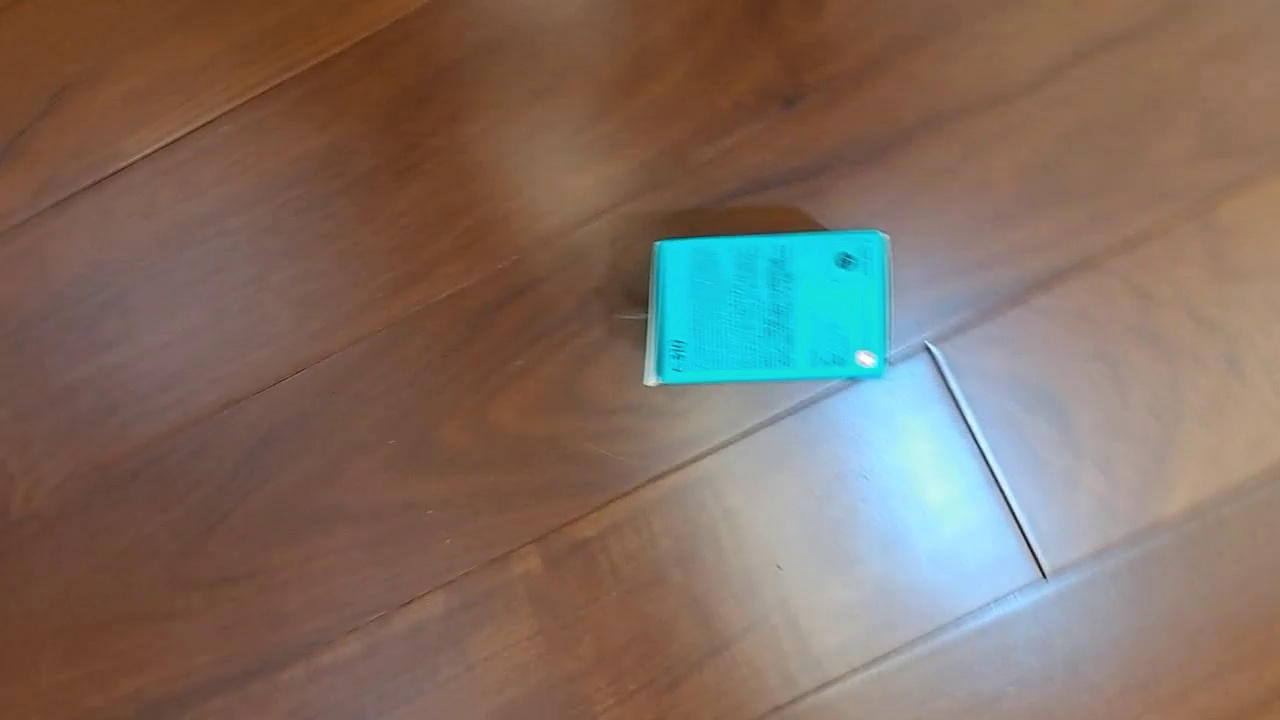webcam: (642, 229, 895, 388)
